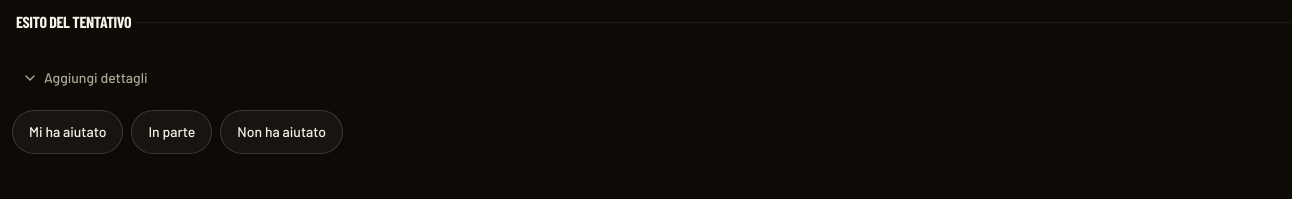
Test: RoutineCheckInForm › announces failure and restores all outcome actions for retry
Click the button "Mi ha aiutato" at (68, 132), box [12,110,123,154]
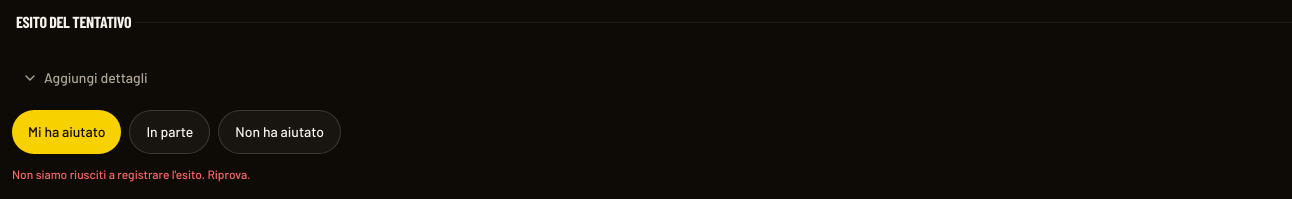
Expected: the message reads "Non siamo riusciti a registrare l'esito. Riprova.", [12,167,250,181]
